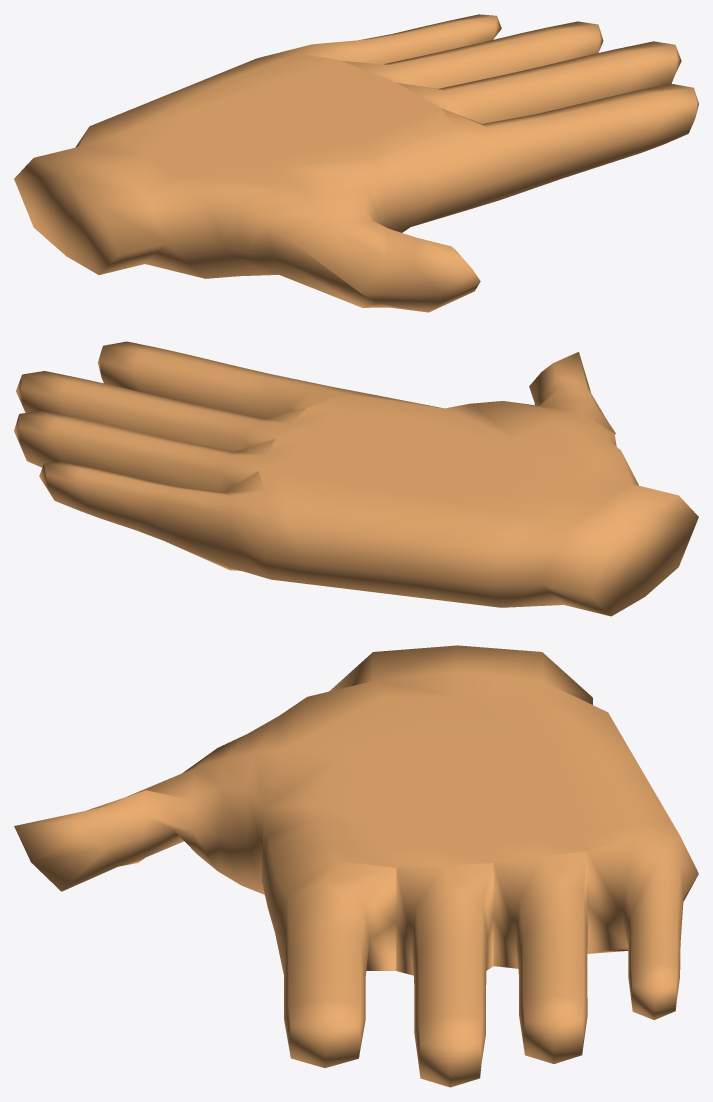
Rendered from left hand smooth.fbx.
3 views of the same model, one above another, from view 1: azimuth 30°, elevation 25°; view 2: azimuth 150°, elevation 25°; view 3: azimuth 270°, elevation 25° (orthographic). The views are drawn at different scales.
Parts seen in each view (by area): view 1: Cube; view 2: Cube; view 3: Cube.
Boxes of the visible parts, box(x1,y1,x2,y2) form: Cube: box(14, 14, 698, 312); Cube: box(14, 341, 698, 616); Cube: box(14, 645, 698, 1087).
Size of the model in its own units: 492 by 63.89 by 367.
